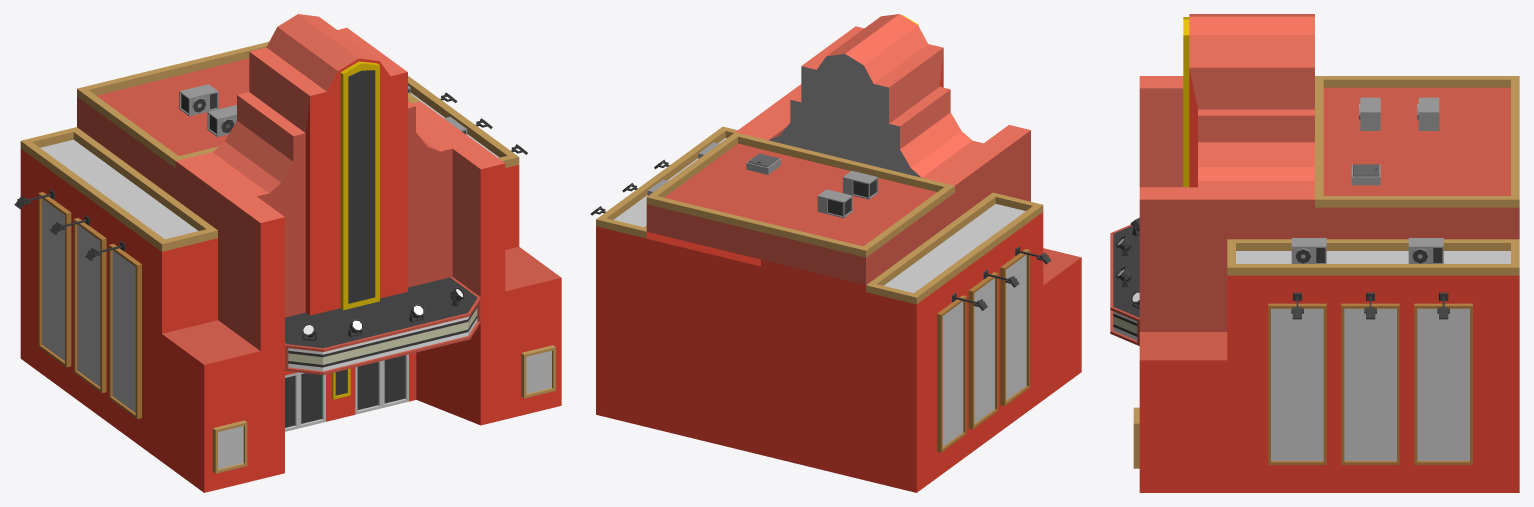
File: CinemaV2.fbx
The picture shows the model from 3 angles, left to right: view 1: azimuth 30°, elevation 25°; view 2: azimuth 150°, elevation 25°; view 3: azimuth 270°, elevation 25°; orthographic projection. The views are drawn at different scales.
Visible parts, largest first — view 1: building-cinema; view 2: building-cinema; view 3: building-cinema.
Part boxes in pixels (x1=…): building-cinema: x1=14, y1=14, x2=561, y2=492; building-cinema: x1=590, y1=14, x2=1081, y2=492; building-cinema: x1=1110, y1=14, x2=1519, y2=492.
Size of the model in its own units: 1792 by 1458 by 1400.
